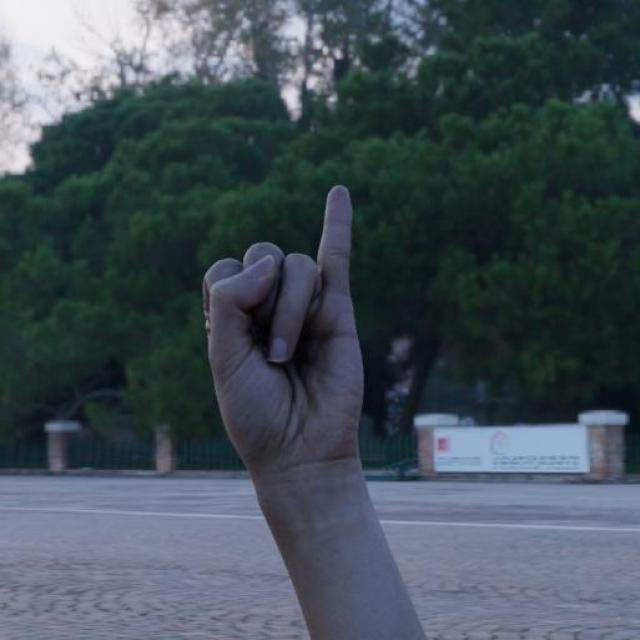I: (200, 182, 366, 456)
